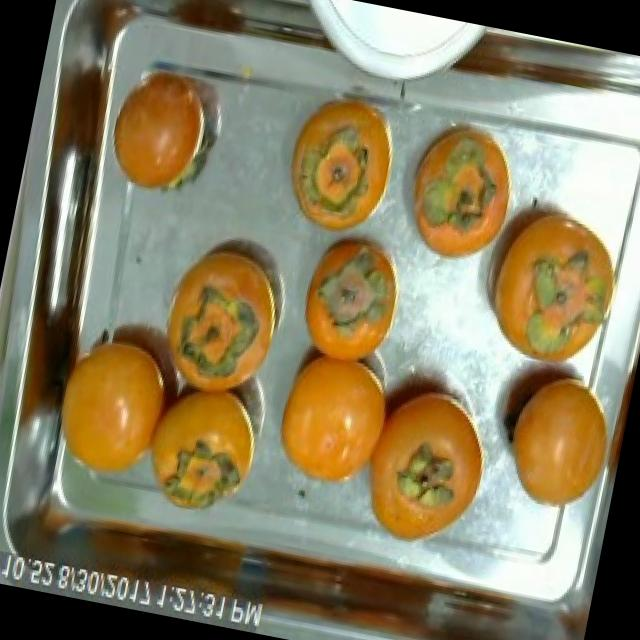Fruit: (456, 174, 634, 390), (342, 362, 516, 574), (44, 296, 204, 508), (253, 322, 415, 512), (384, 98, 538, 286), (129, 354, 284, 540), (264, 72, 412, 256), (479, 344, 625, 530), (283, 207, 421, 384), (98, 54, 231, 214)
